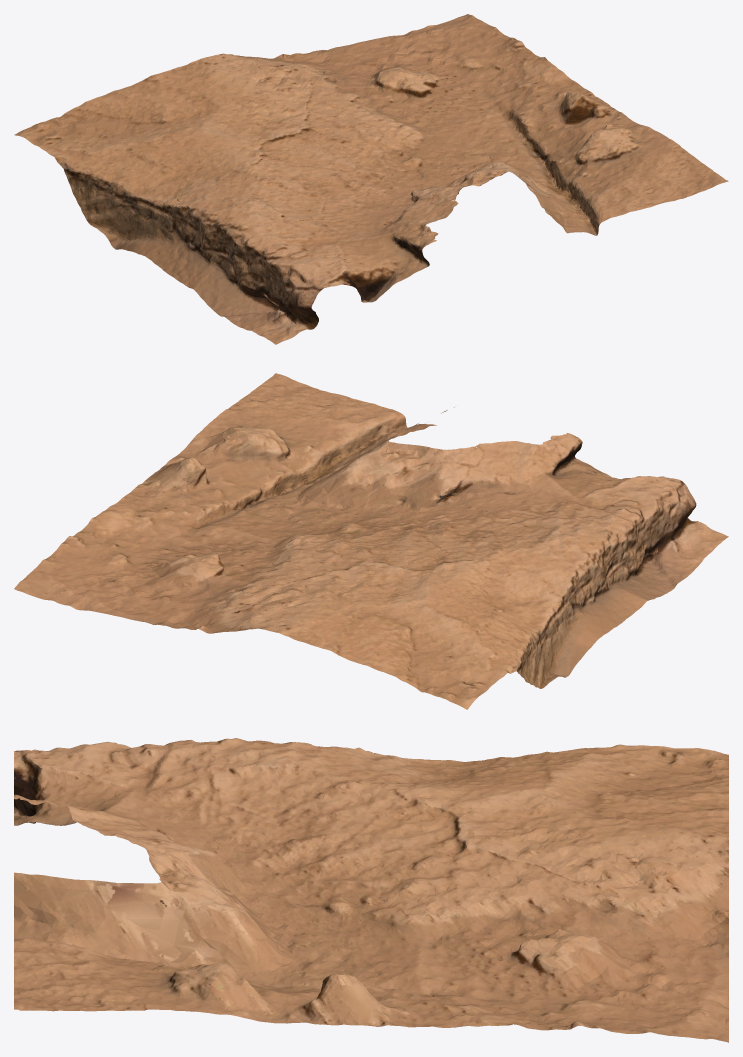
3 renders of one model, top to bottom at view 1: azimuth 30°, elevation 25°; view 2: azimuth 150°, elevation 25°; view 3: azimuth 270°, elevation 25°, orthographic. The views are drawn at different scales.
Bounding box in the file's own units: 1.04 × 0.1904 × 1.04.
3 materials, 3 textured.
